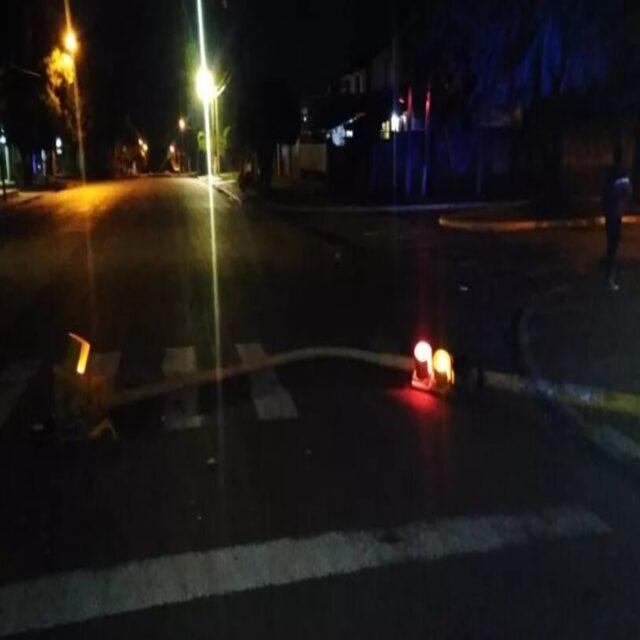Inclined Pole: (48, 334, 640, 450)
